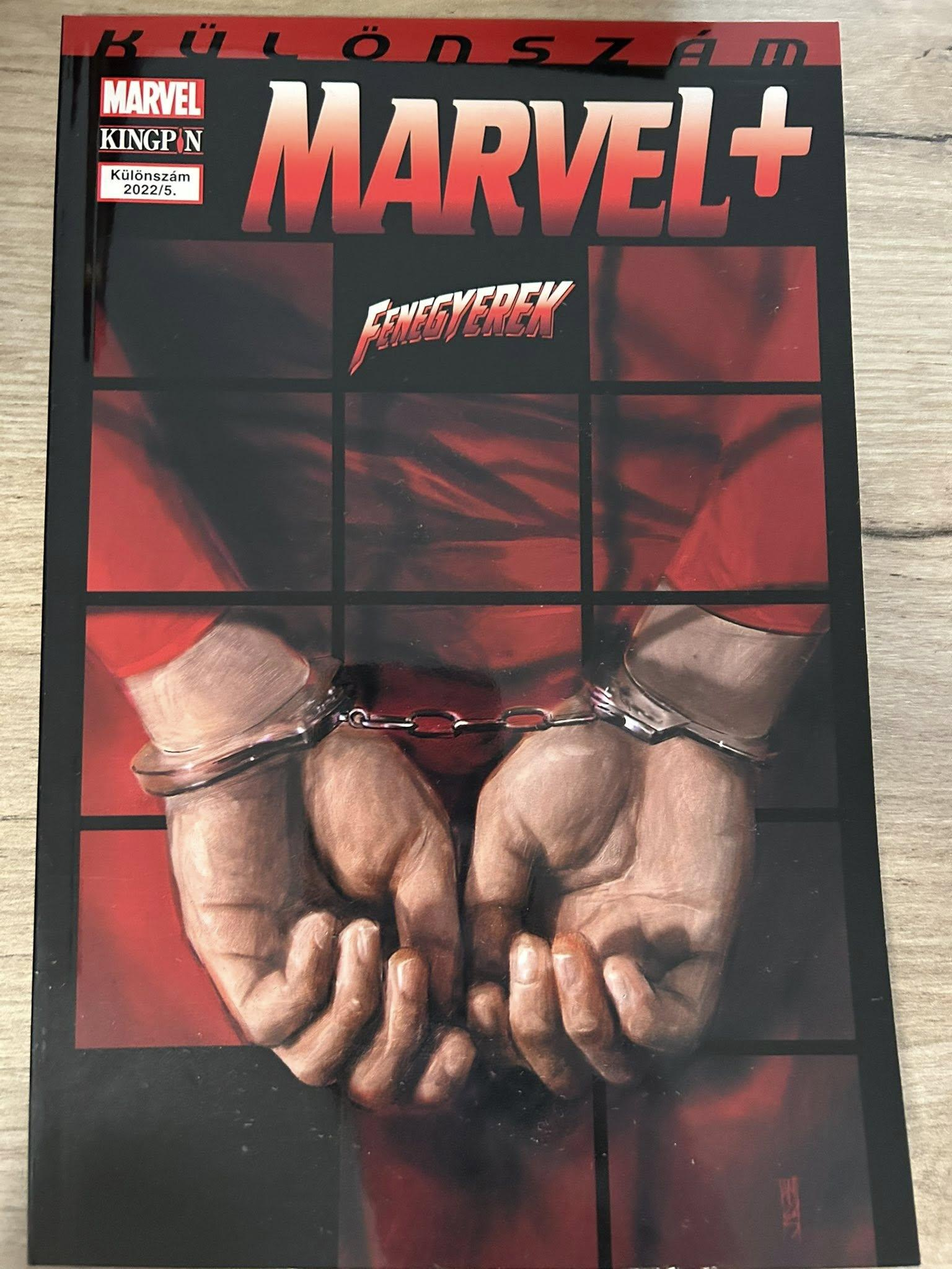comic: (30, 16, 917, 1268)
